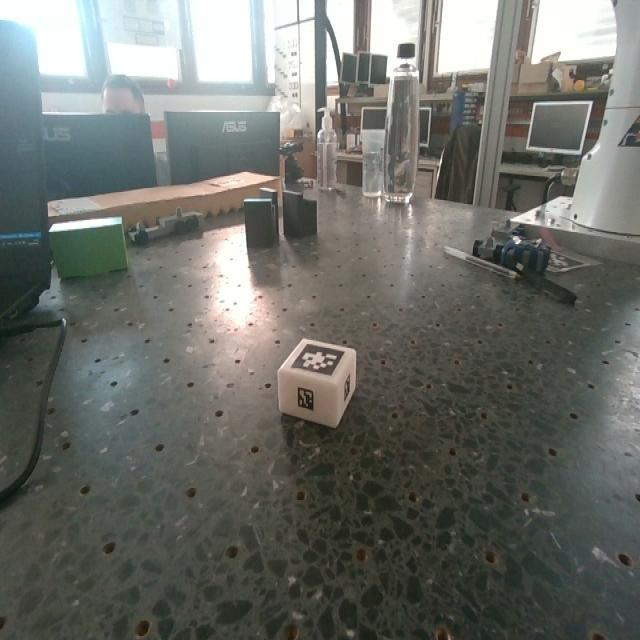Cube: (277, 338, 360, 430)
